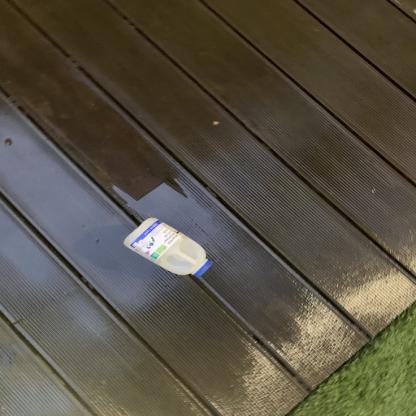trash: (124, 218, 213, 280)
